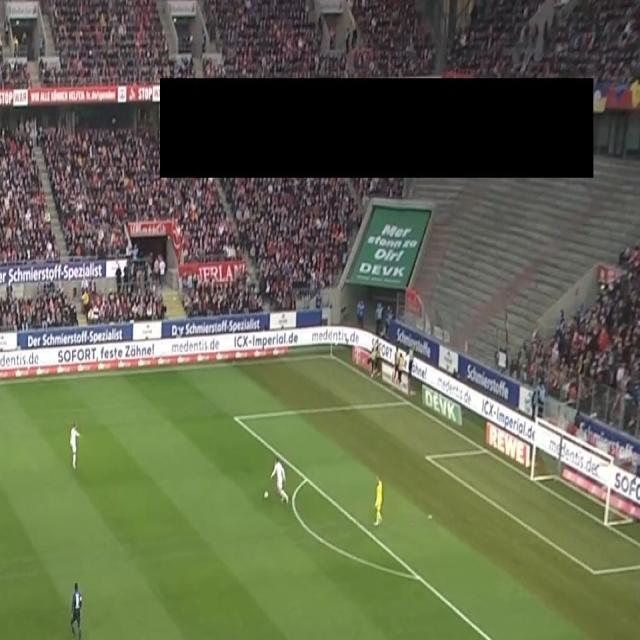ball: (262, 490, 270, 500)
